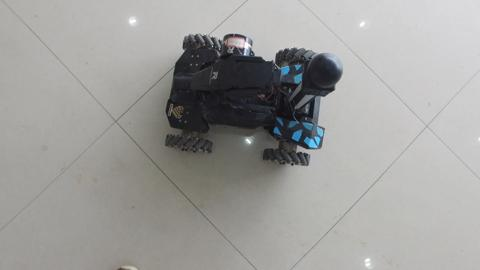chariot: (147, 28, 341, 179)
